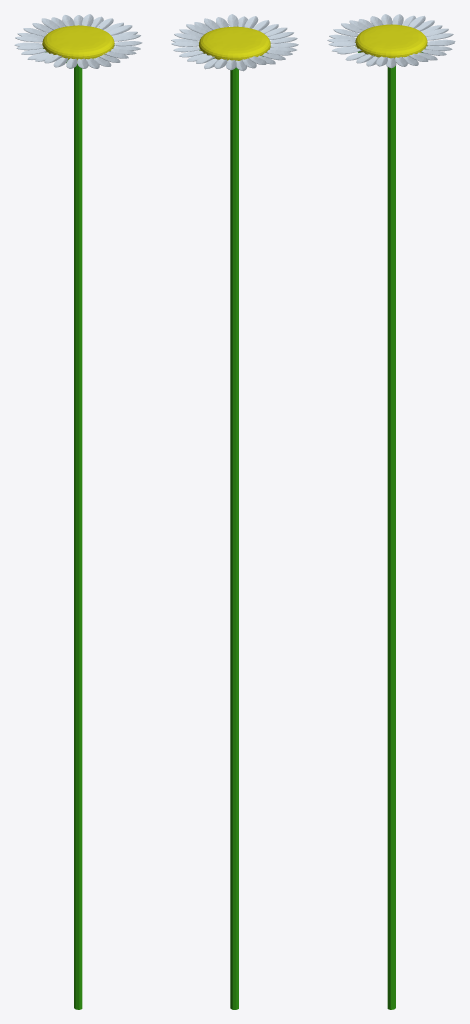
File: romashka.dae
3 views of the same model, side by side, from view 1: azimuth 90°, elevation 25°; view 2: azimuth 150°, elevation 25°; view 3: azimuth 270°, elevation 25° (orthographic).
Visible parts, largest first — view 1: Cylinder; view 2: Cylinder; view 3: Cylinder.
Boxes of the visible parts, x1,y1,x2,y2 form: Cylinder: (14,14,142,1009); Cylinder: (171,14,298,1009); Cylinder: (327,14,455,1009).
Size of the model in its own units: 1.16 by 1.16 by 9.72.
